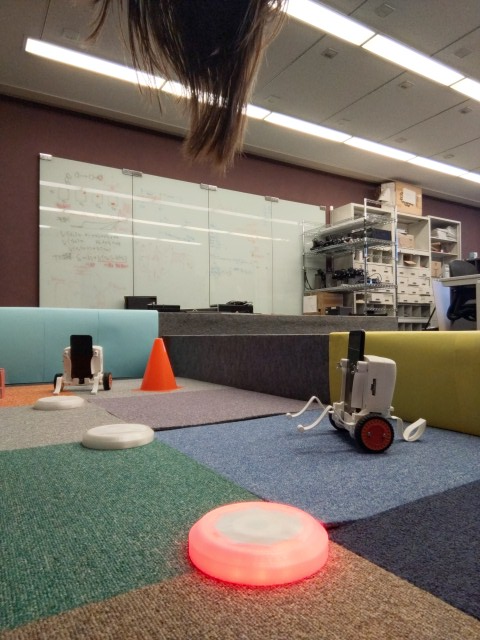bl: (283, 328, 429, 454)
f: (48, 331, 115, 393)
o: (78, 417, 154, 451), (30, 395, 85, 411)
r: (183, 495, 330, 584)
